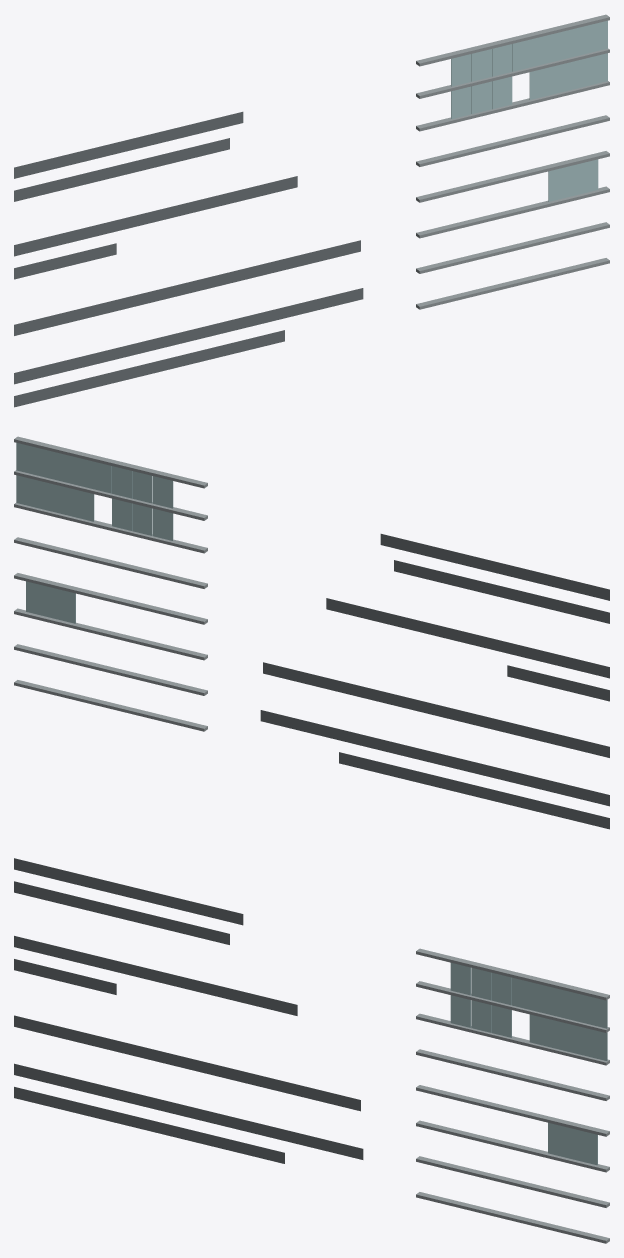
File: edsSignage-4.glb
3 views of the same model, one above another, from view 1: azimuth 30°, elevation 25°; view 2: azimuth 150°, elevation 25°; view 3: azimuth 330°, elevation 25° (orthographic).
Visible parts, largest first — view 1: eds-sales-plan/brushed-metal-letters, eds-sales-plan/anodized-aluminum, eds-sales-plan/acrylic-proxy; view 2: eds-sales-plan/brushed-metal-letters, eds-sales-plan/anodized-aluminum, eds-sales-plan/acrylic-proxy; view 3: eds-sales-plan/brushed-metal-letters, eds-sales-plan/anodized-aluminum, eds-sales-plan/acrylic-proxy.
Boxes of the visible parts, left/top/right/bottom form: eds-sales-plan/brushed-metal-letters: left=14, top=111, right=363, bottom=407; eds-sales-plan/anodized-aluminum: left=416, top=14, right=609, bottom=309; eds-sales-plan/acrylic-proxy: left=451, top=20, right=607, bottom=201; eds-sales-plan/brushed-metal-letters: left=260, top=533, right=609, bottom=829; eds-sales-plan/anodized-aluminum: left=14, top=436, right=207, bottom=731; eds-sales-plan/acrylic-proxy: left=16, top=442, right=173, bottom=623; eds-sales-plan/brushed-metal-letters: left=14, top=858, right=363, bottom=1163; eds-sales-plan/anodized-aluminum: left=416, top=948, right=609, bottom=1243; eds-sales-plan/acrylic-proxy: left=450, top=963, right=607, bottom=1165.
Bounding box in the file's own units: 2.96 × 1.18 × 0.032.
